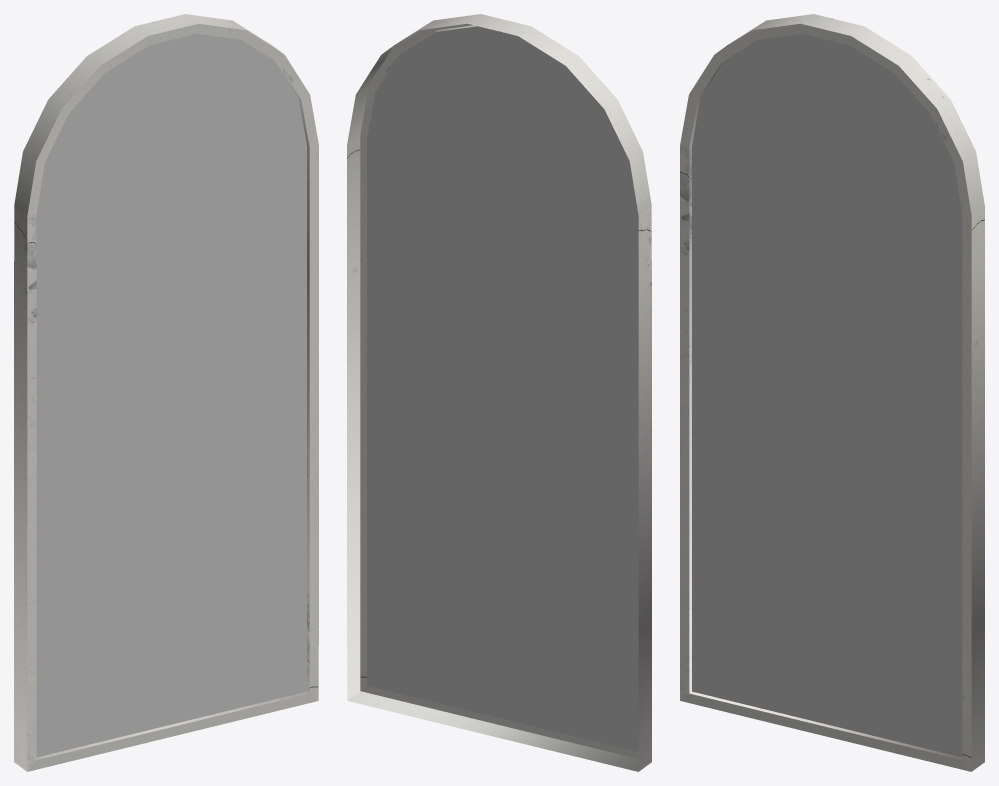
The model's file is window 9.FBX.
3 views of the same model, side by side, from view 1: azimuth 30°, elevation 25°; view 2: azimuth 150°, elevation 25°; view 3: azimuth 330°, elevation 25° (orthographic).
Parts seen in each view (by area): view 1: Object135; view 2: Object135; view 3: Object135.
Part boxes in pixels (x1,y1,x2,y2): Object135: (14, 14, 318, 771); Object135: (347, 14, 651, 771); Object135: (680, 14, 984, 771).
Bounding box in the file's own units: 1.9 × 4.4 × 0.15.
